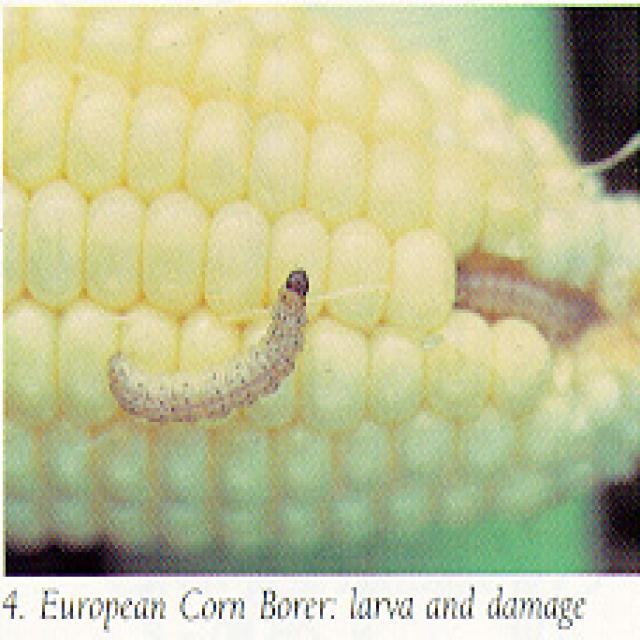cornborer-Larva-: (86, 265, 334, 437)
